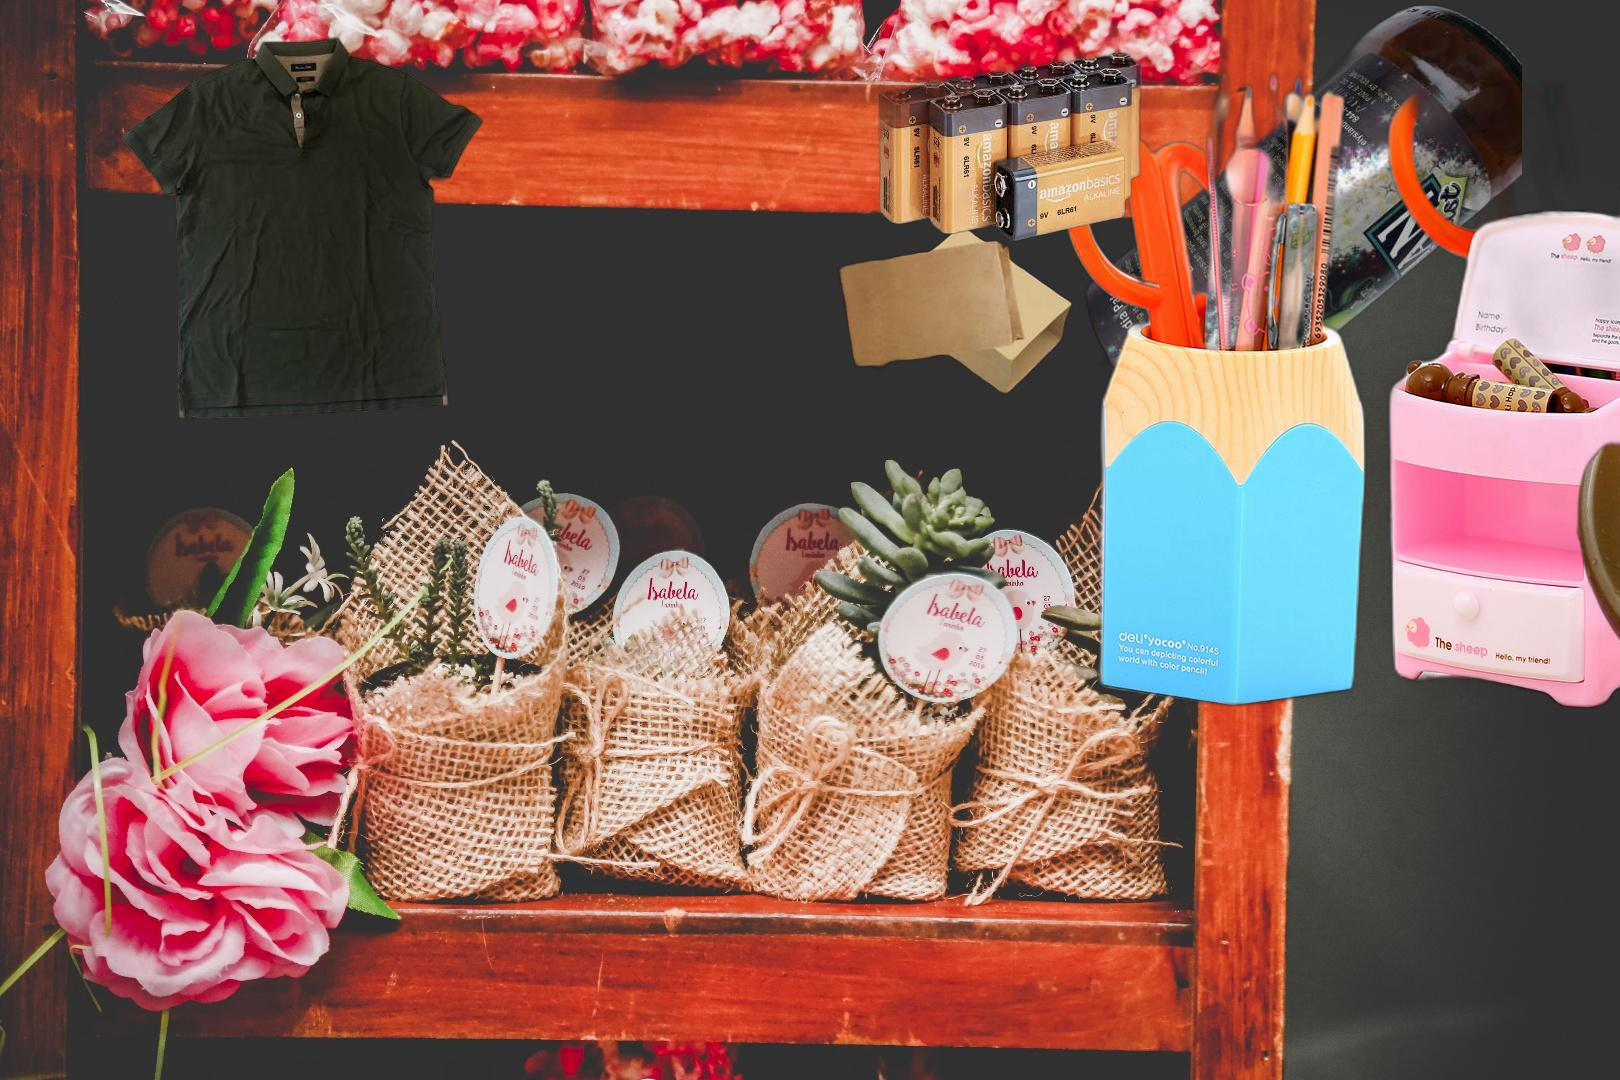battery: (877, 51, 1141, 242)
biological: (1572, 304, 1620, 730)
clothes: (110, 33, 488, 507)
glass: (1080, 2, 1522, 366)
paper-bag: (822, 222, 1075, 397)
penholder: (1056, 63, 1620, 714)
trash: (548, 1075, 753, 1080)
